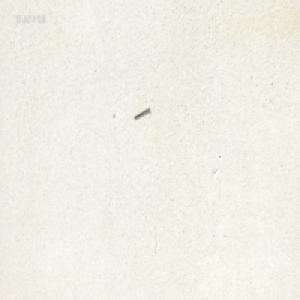Bolt: (133, 106, 149, 120)
